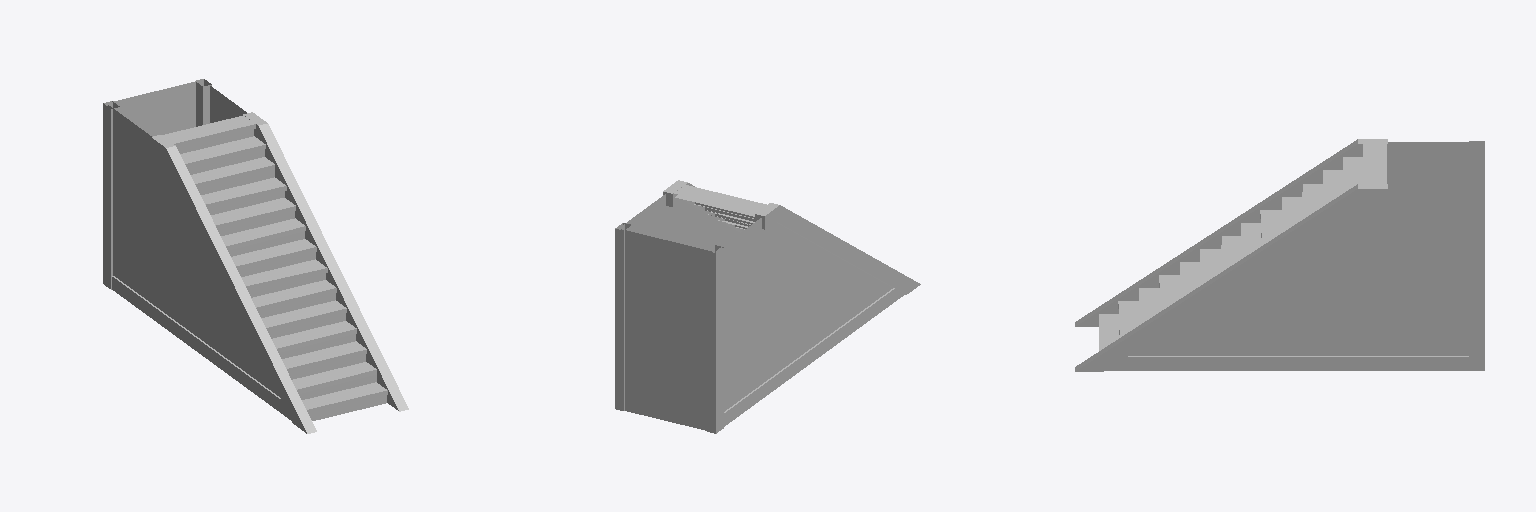
The model's file is Stair_Interior_SolidExtended.obj.
3 renders of one model, left to right at view 1: azimuth 30°, elevation 25°; view 2: azimuth 150°, elevation 25°; view 3: azimuth 270°, elevation 25°, orthographic.
Visible parts, largest first — view 1: Stair_Interior_SolidExtended; view 2: Stair_Interior_SolidExtended; view 3: Stair_Interior_SolidExtended.
Boxes of the visible parts, <box> form: Stair_Interior_SolidExtended: <box>103,79,408,433</box>; Stair_Interior_SolidExtended: <box>615,180,920,433</box>; Stair_Interior_SolidExtended: <box>1075,139,1484,371</box>.
Bounding box in the file's own units: 1.77 × 3.05 × 6.16.